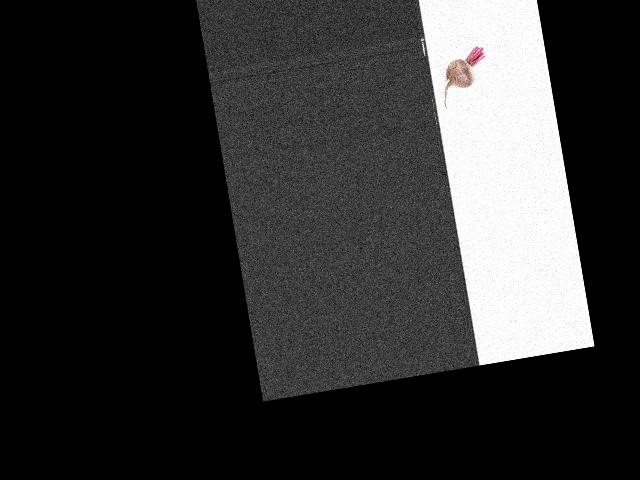beet: (435, 46, 492, 109)
